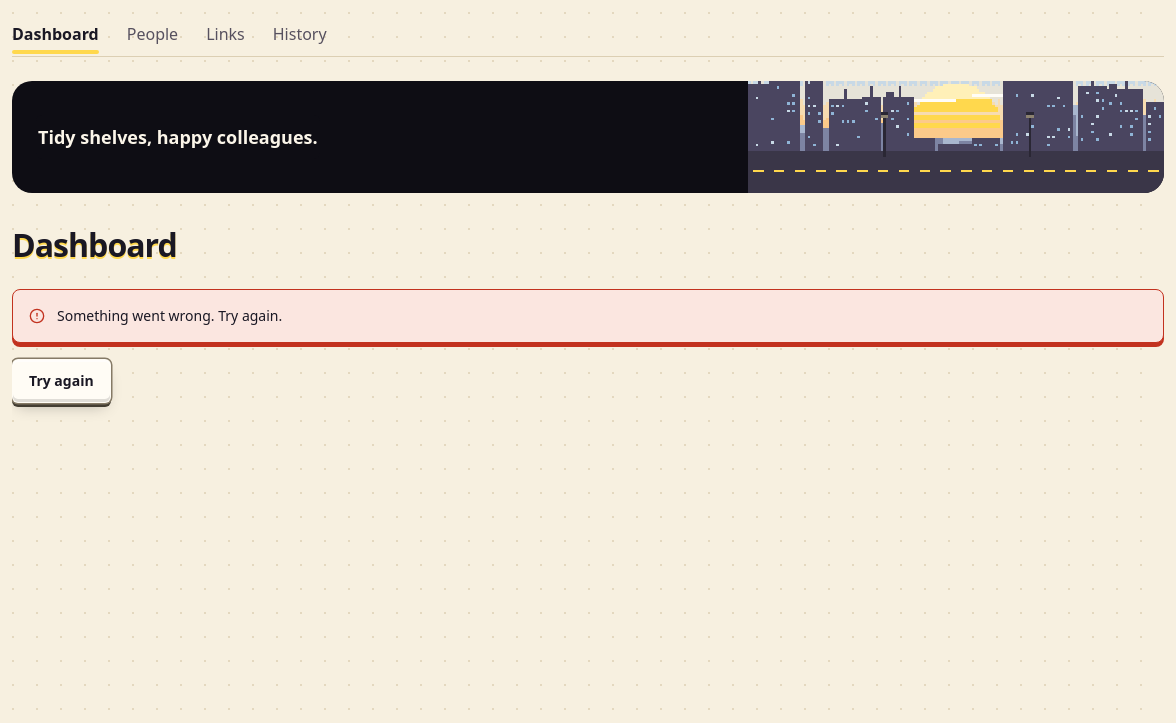
Dashboard › shows a load failure with Retry
Expected: the text "Something went wrong. Try again." is shown, [57,306,282,325]
Click the button "Try again" at (61, 381), box [12,359,111,403]
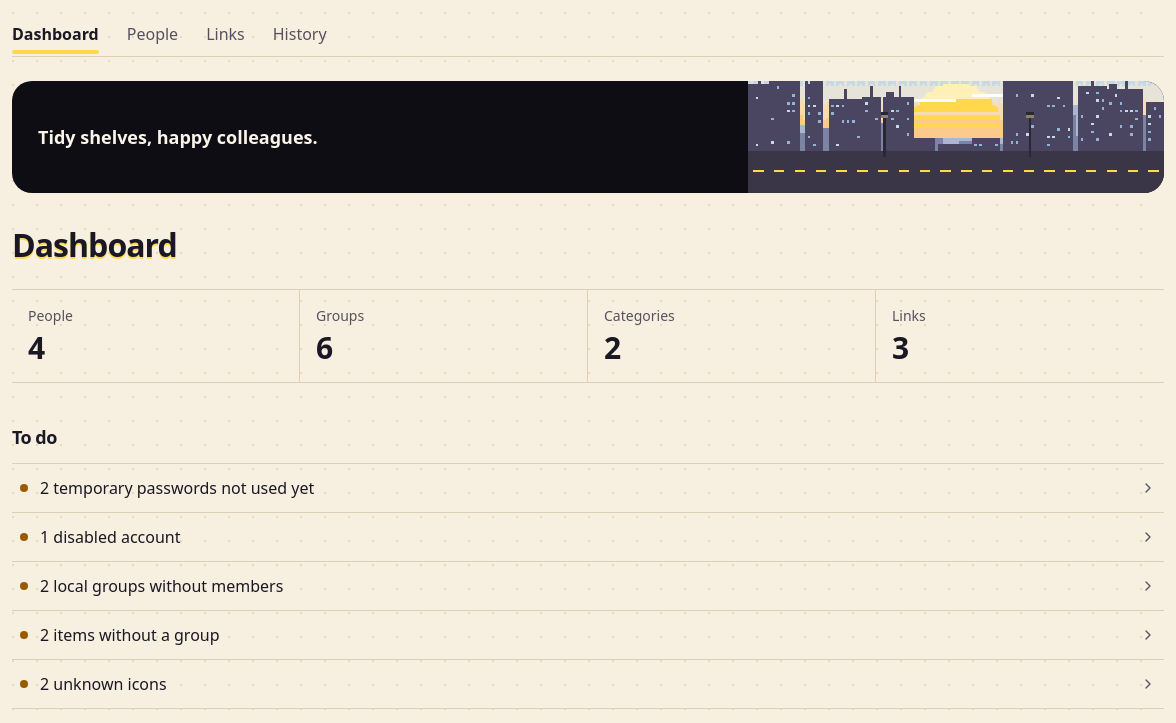
Now the link "2 unknown icons" is shown, box [20,673,1156,695]
